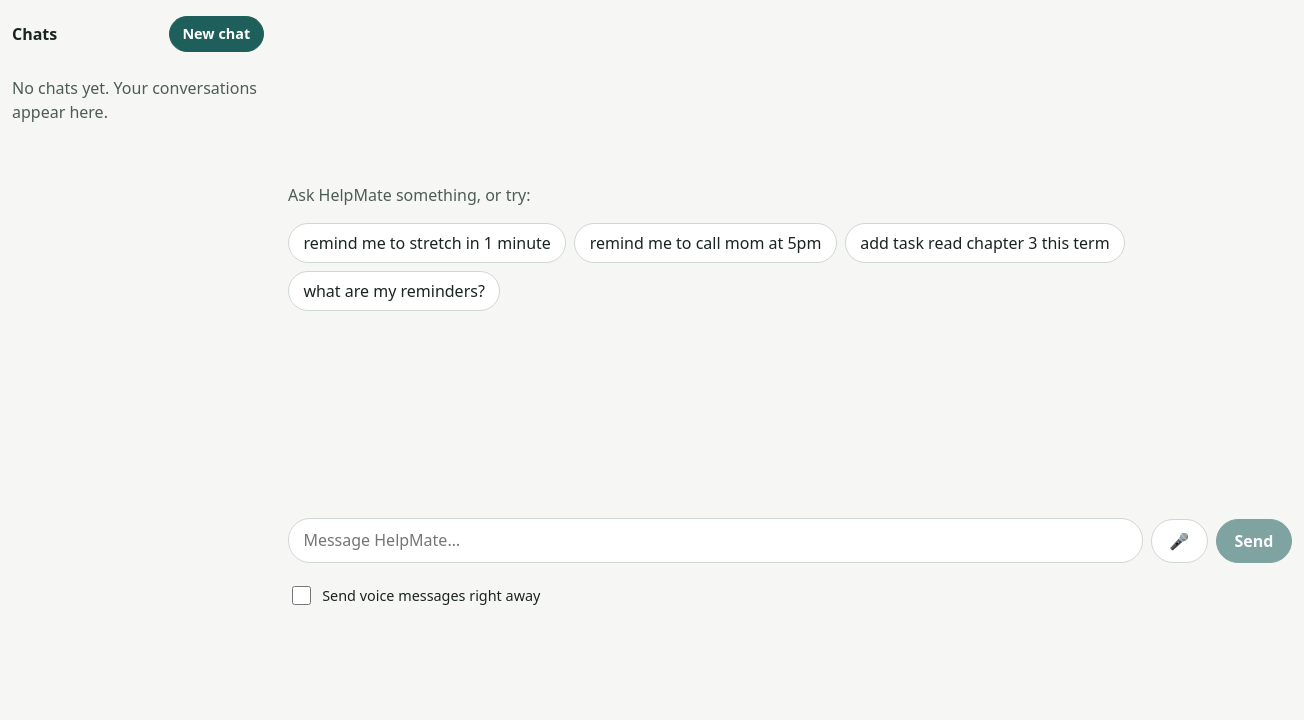
Test case: ChatPage › sends a suggestion chip and shows the plain reply
What coordinates should you click on to do the following:
click the button "what are my reminders?"
I would click on:
 (394, 291)
Its box is [288,271,500,311].
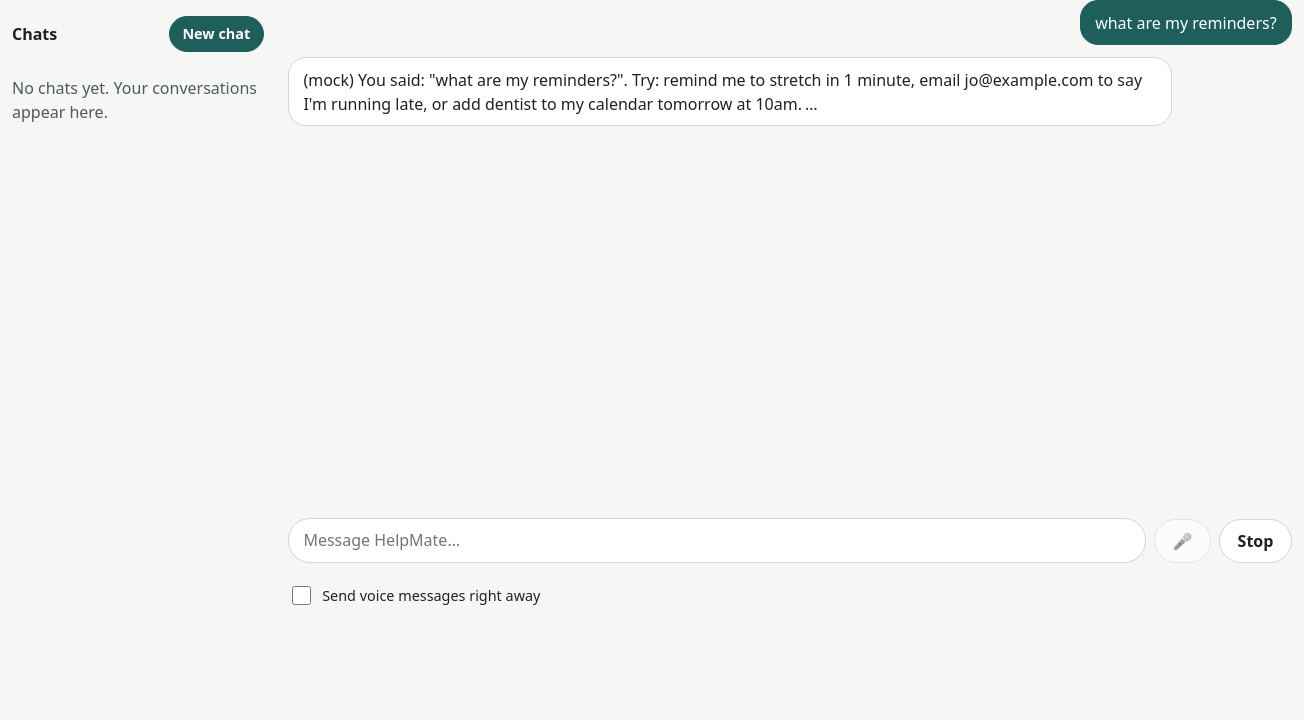
Result: the text "(mock) You said" is shown at [303,69,1146,115]
